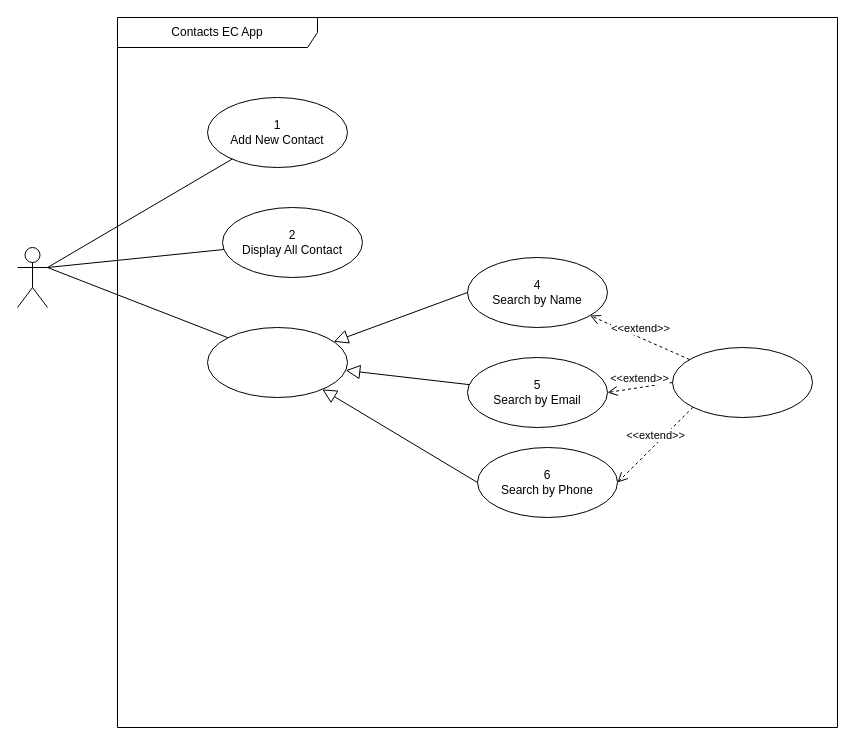
The diagram is 855 pixels wide and 745 high, and some of its shapes have lost their labels. The centre of each missing label's shape, as x and y in pixels:
"3 Search for Contact" belongs at pixel 277 362.
"7 Delete Contact" belongs at pixel 742 382.
"User" belongs at pixel 32 277.
